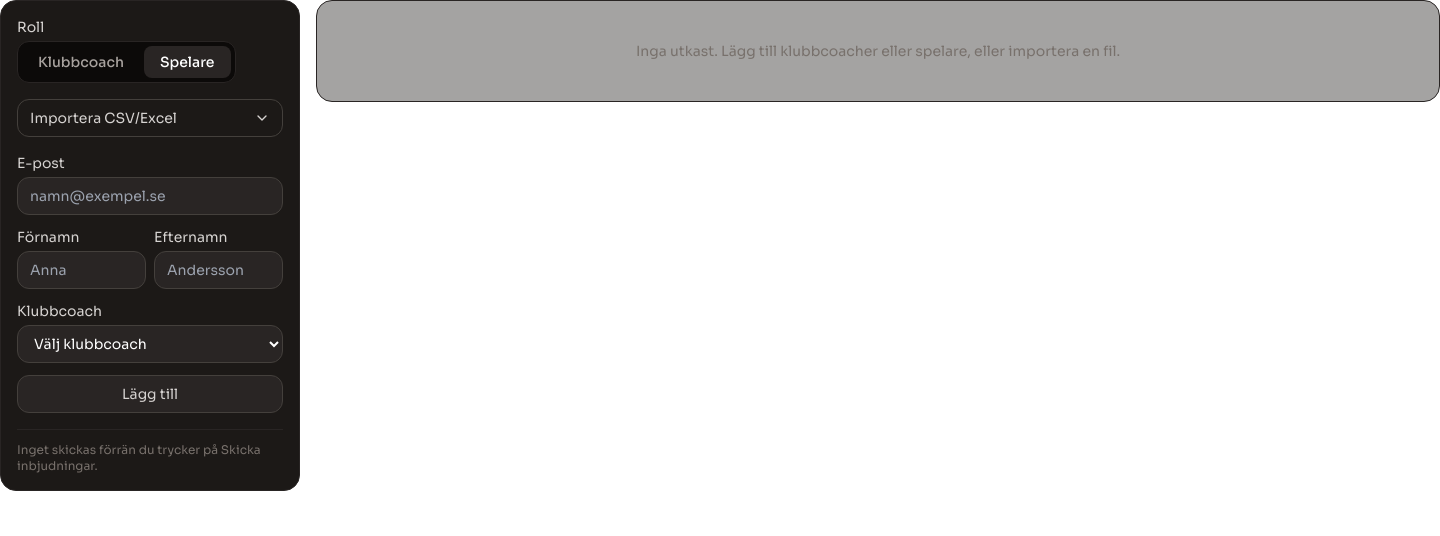
Test case: ClubDraftsTab › requires a coach for a manually added player
Type "ida@x.se" into the field labelled "E-post" at x=150, y=196, box [17,177,283,215]
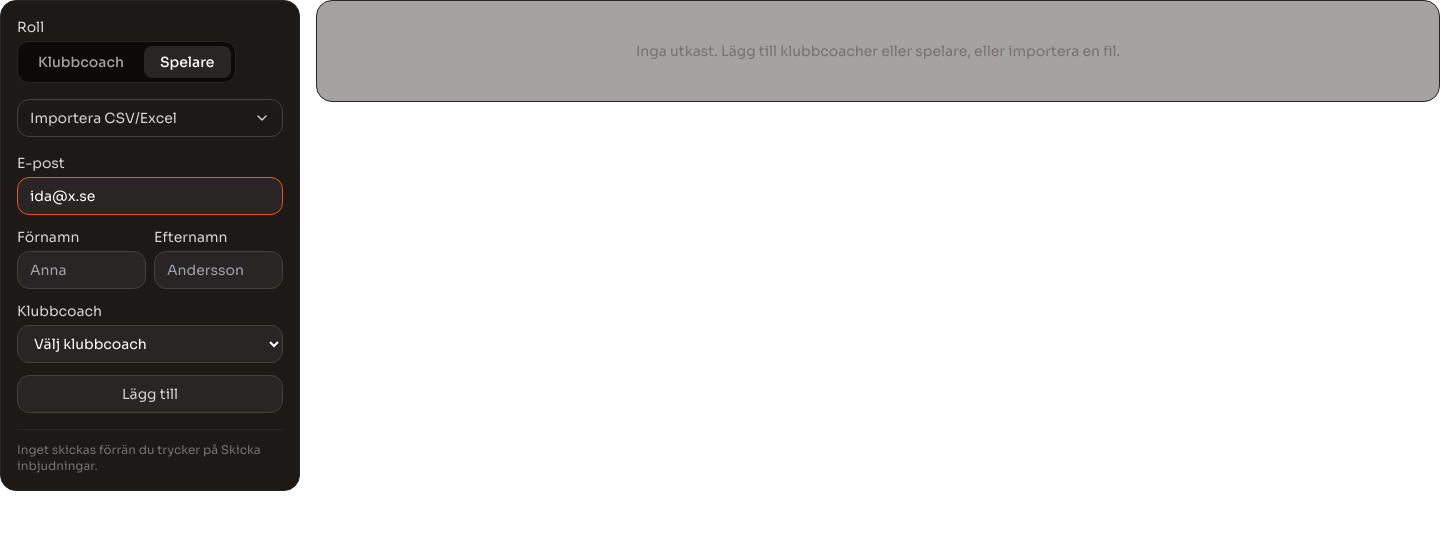
Type "Ida" into the field labelled "Förnamn" at x=82, y=270, box [17,251,146,289]
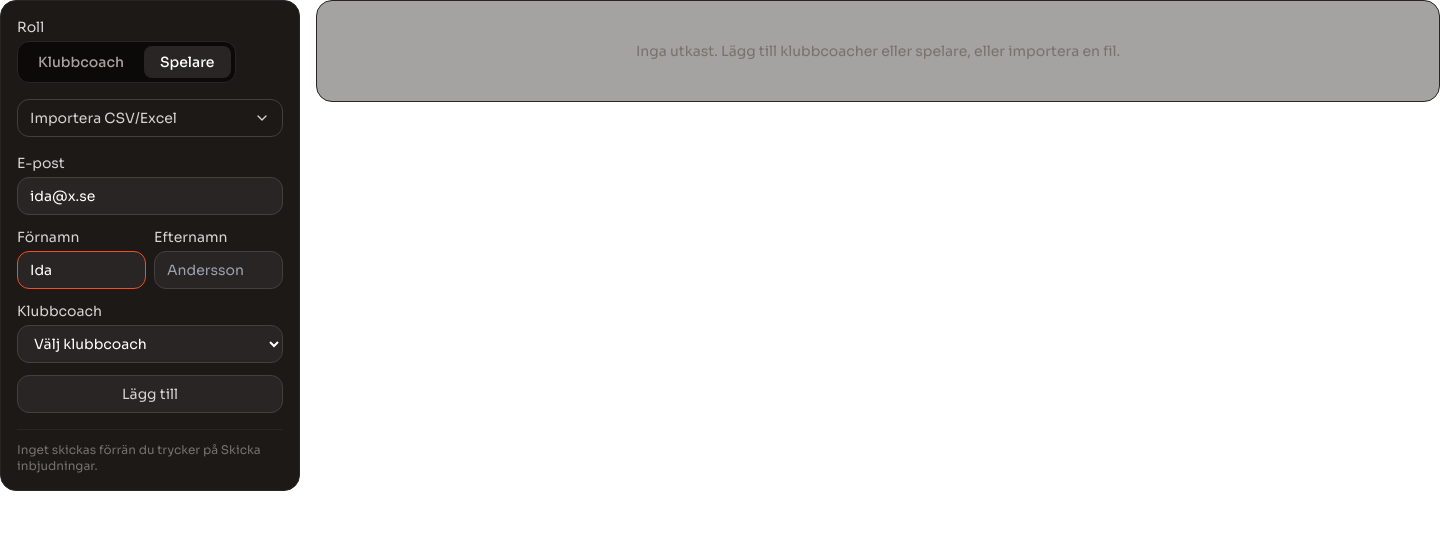
Type "Svensson" into the field labelled "Efternamn" at x=218, y=270, box [154,251,283,289]
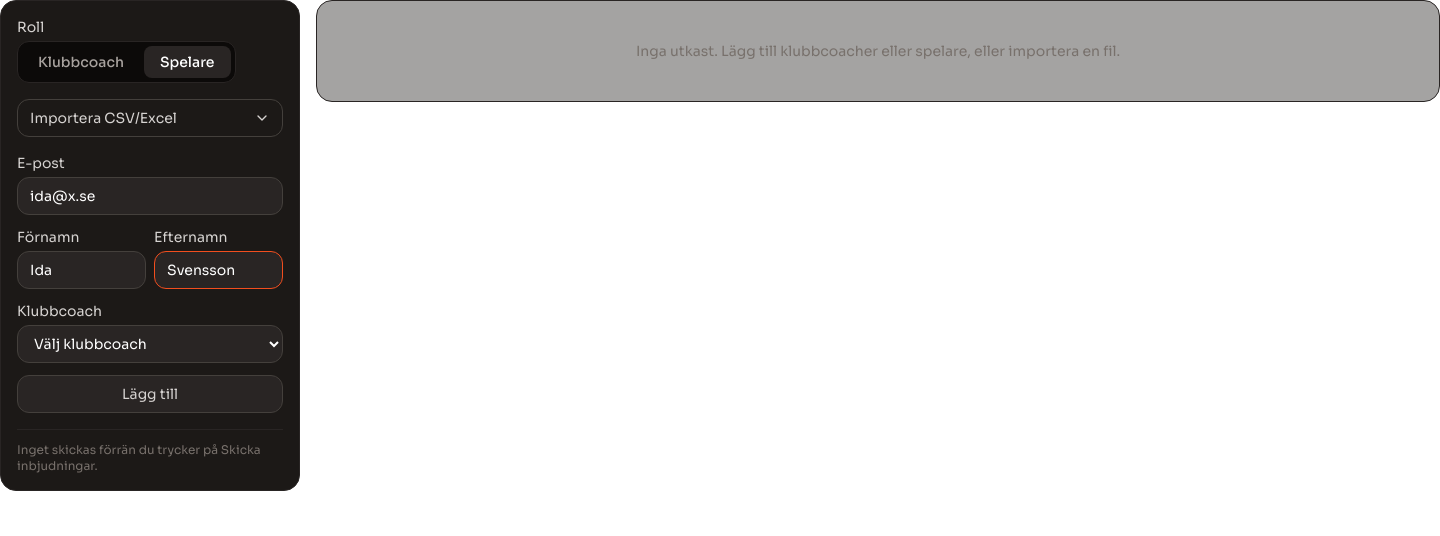
Click the button "Lägg till" at x=150, y=394, box [17,375,283,413]
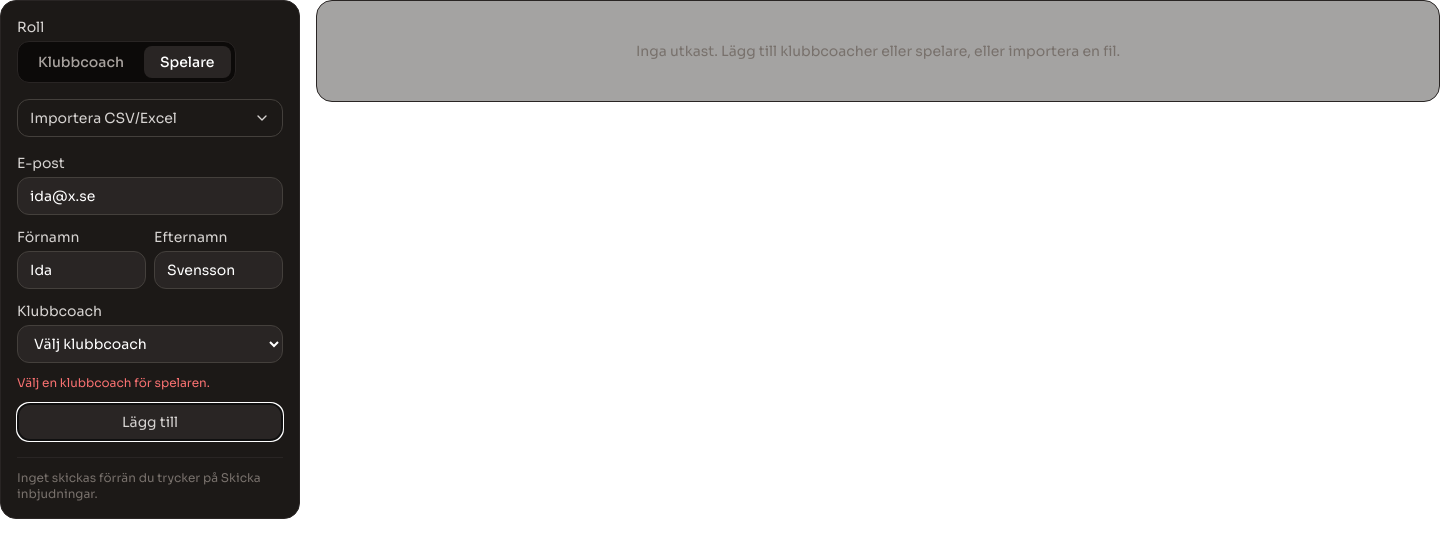
Check: the text "Välj en klubbcoach för spelaren." is shown, box [17,375,210,390]
